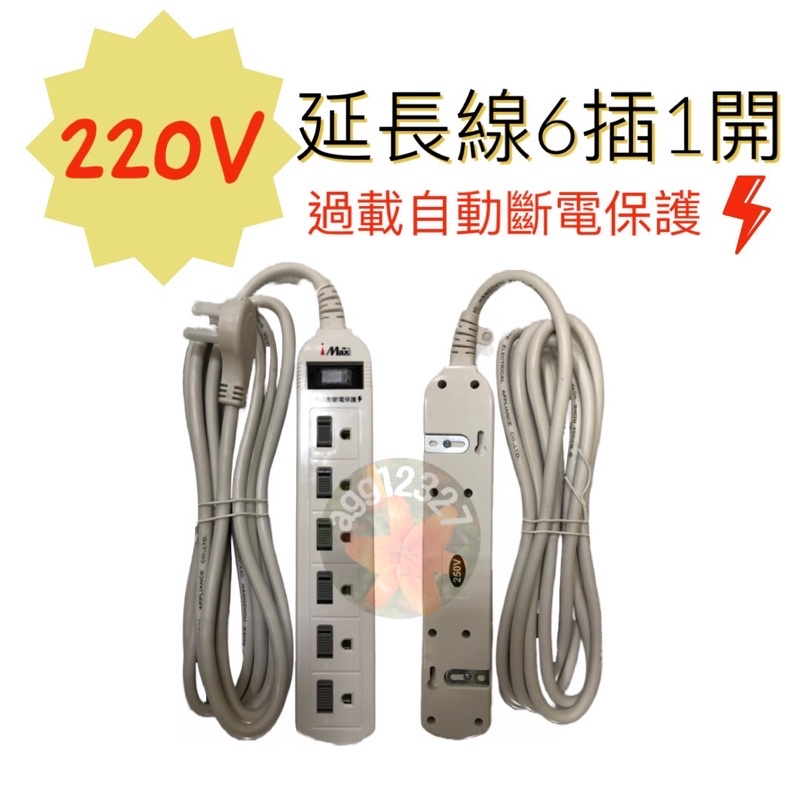socket: (295, 280, 376, 747), (418, 311, 494, 740)
